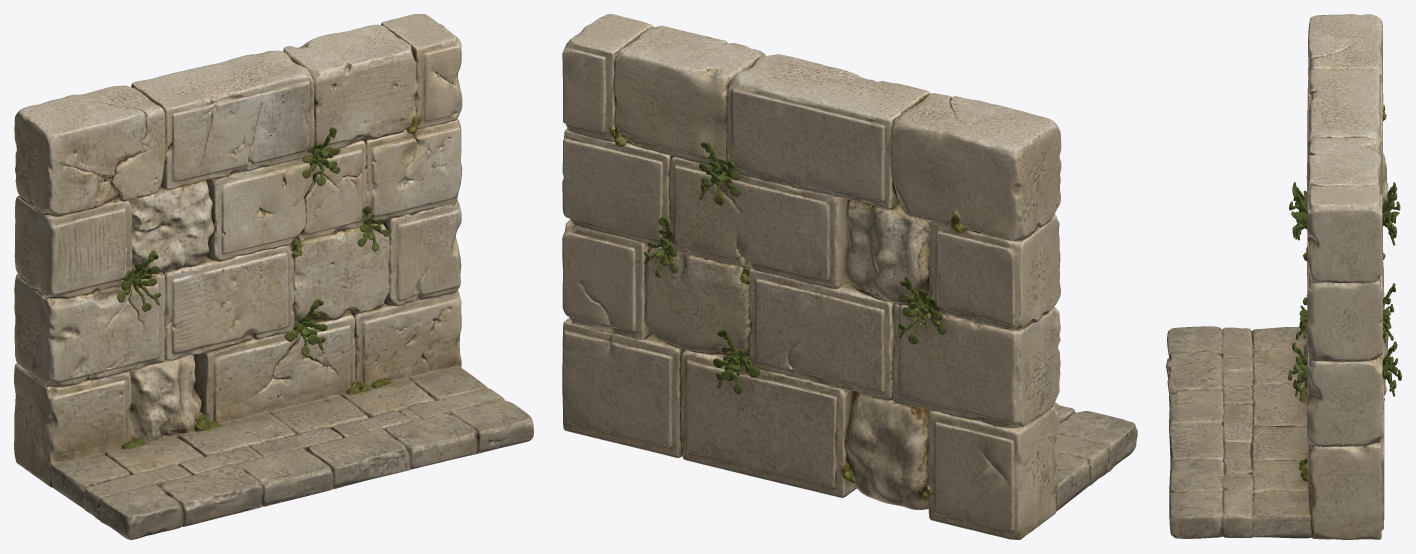
Rendered from kotel.glb.
3 renders of one model, left to right at view 1: azimuth 30°, elevation 25°; view 2: azimuth 150°, elevation 25°; view 3: azimuth 270°, elevation 25°, orthographic. The views are drawn at different scales.
Parts seen in each view (by area): view 1: tripo_node_9e808892-5c2a-4cf2-9431-87e05c3bc741; view 2: tripo_node_9e808892-5c2a-4cf2-9431-87e05c3bc741; view 3: tripo_node_9e808892-5c2a-4cf2-9431-87e05c3bc741.
Boxes of the visible parts, left/top/right/bottom form: tripo_node_9e808892-5c2a-4cf2-9431-87e05c3bc741: left=14, top=14, right=533, bottom=539; tripo_node_9e808892-5c2a-4cf2-9431-87e05c3bc741: left=562, top=14, right=1137, bottom=539; tripo_node_9e808892-5c2a-4cf2-9431-87e05c3bc741: left=1166, top=14, right=1401, bottom=539.
Size of the model in its own units: 0.9795 by 0.802 by 0.5081.
Materials: 1 (1 with a texture image).
